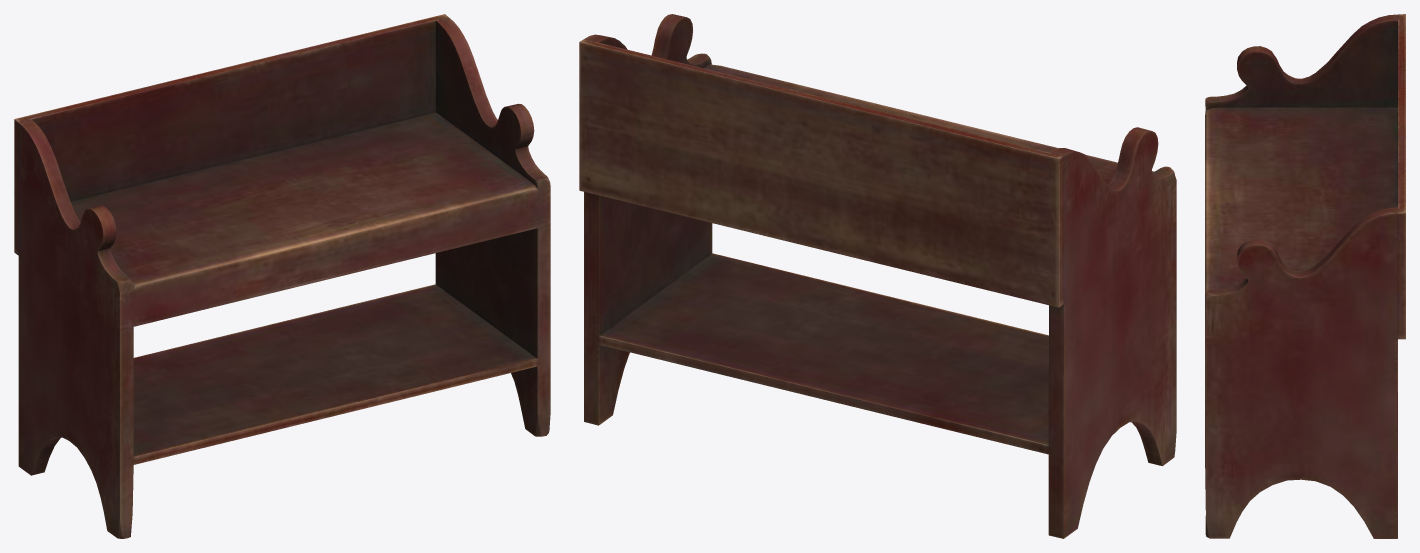
3 views of the same model, side by side, from view 1: azimuth 30°, elevation 25°; view 2: azimuth 150°, elevation 25°; view 3: azimuth 270°, elevation 25° (orthographic). The views are drawn at different scales.
Parts seen in each view (by area): view 1: painted_wooden_bench; view 2: painted_wooden_bench; view 3: painted_wooden_bench.
Part boxes in pixels (x1,y1,x2,y2): painted_wooden_bench: (14,14,550,538); painted_wooden_bench: (579,14,1176,538); painted_wooden_bench: (1205,14,1405,538).
Size of the model in its own units: 1.16 by 0.8893 by 0.4965.
1 material, 1 textured.
